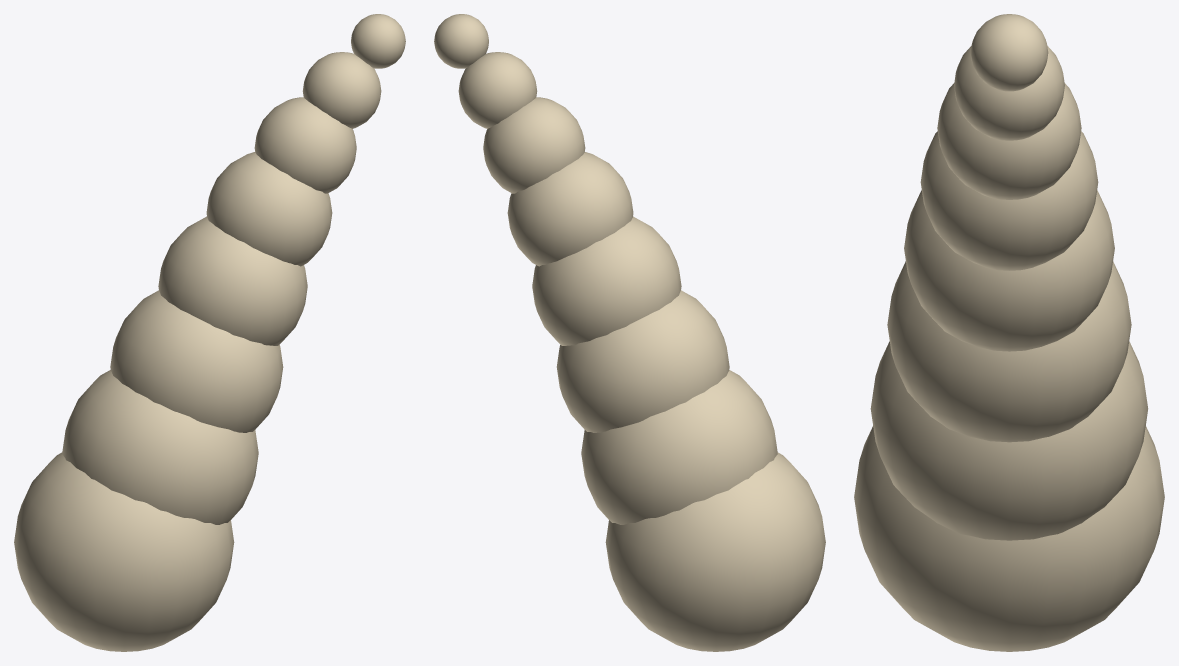
File: mat_horn.glb
3 views of the same model, side by side, from view 1: azimuth 30°, elevation 25°; view 2: azimuth 150°, elevation 25°; view 3: azimuth 270°, elevation 25° (orthographic). The views are drawn at different scales.
Visible parts, largest first — view 1: _sphere; view 2: _sphere; view 3: _sphere.
Part boxes in pixels (x1=…): _sphere: x1=14, y1=14, x2=405, y2=651; _sphere: x1=434, y1=14, x2=825, y2=651; _sphere: x1=854, y1=14, x2=1164, y2=651.
Size of the model in its own units: 0.5875 by 0.8473 by 0.3.
